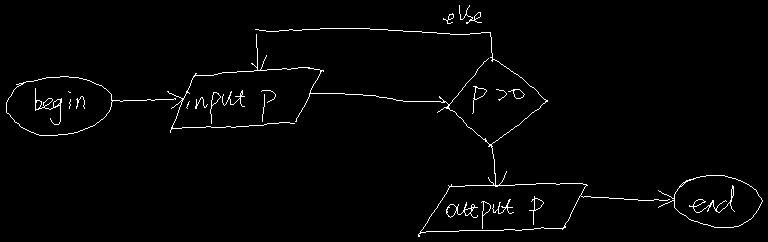arrow: (251, 28, 492, 70), (309, 93, 449, 112), (581, 190, 674, 207), (111, 91, 183, 108), (488, 145, 506, 186)
data: (170, 67, 323, 132), (418, 183, 587, 236)
decision: (446, 57, 547, 146)
terminator: (6, 76, 112, 135), (674, 175, 762, 227)
text: (446, 196, 543, 228), (186, 90, 275, 123), (35, 88, 84, 124), (472, 86, 524, 113), (689, 185, 734, 212), (443, 5, 481, 23)
